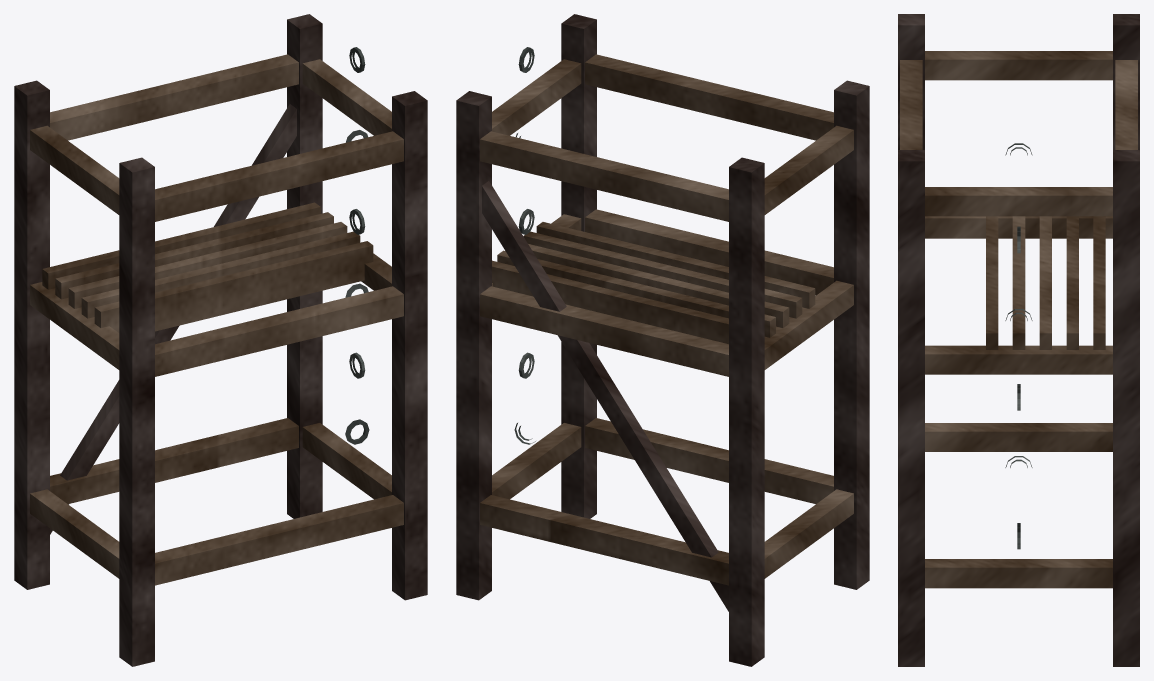
Rendered from 0439_scaffolding_14.glb.
3 views of the same model, side by side, from view 1: azimuth 30°, elevation 25°; view 2: azimuth 150°, elevation 25°; view 3: azimuth 270°, elevation 25° (orthographic). The views are drawn at different scales.
Visible parts, largest first — view 1: wood, wood_dark, iron; view 2: wood, wood_dark, iron; view 3: wood, wood_dark, iron.
Part boxes in pixels (x1=…): wood: x1=30, y1=54, x2=403, y2=585; wood_dark: x1=14, y1=14, x2=427, y2=666; iron: x1=345, y1=47, x2=369, y2=444; wood: x1=480, y1=54, x2=853, y2=585; wood_dark: x1=456, y1=14, x2=869, y2=666; iron: x1=514, y1=47, x2=535, y2=444; wood: x1=900, y1=51, x2=1137, y2=588; wood_dark: x1=898, y1=14, x2=1139, y2=666; iron: x1=1005, y1=143, x2=1032, y2=549.
Bounding box in the file's own units: 1.69 × 2.77 × 1.17.
3 materials, 3 textured.
